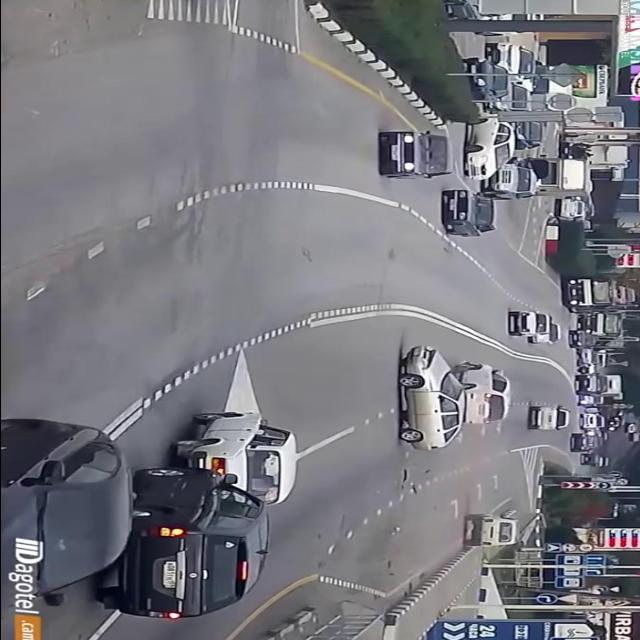accident: (383, 339, 517, 492)
non_accident: (82, 407, 312, 625), (368, 38, 596, 244), (502, 308, 566, 348)
